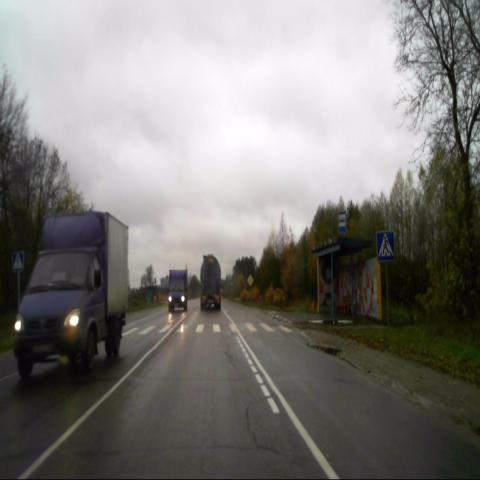5_16: (338, 212, 348, 237)
5_19_1: (376, 231, 394, 262), (13, 251, 24, 272)
